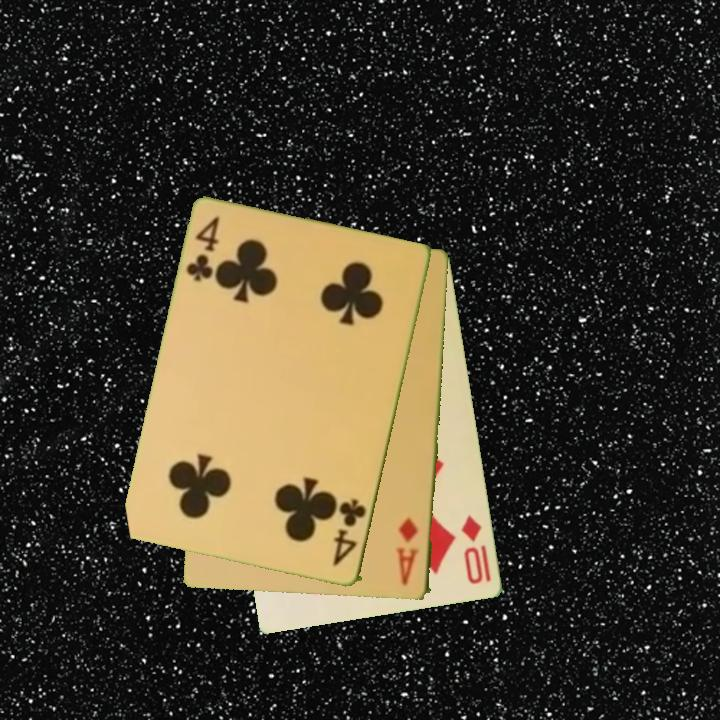10d: (458, 512, 487, 588)
4c: (330, 496, 370, 570), (183, 213, 223, 285)
Ad: (394, 514, 422, 588)
